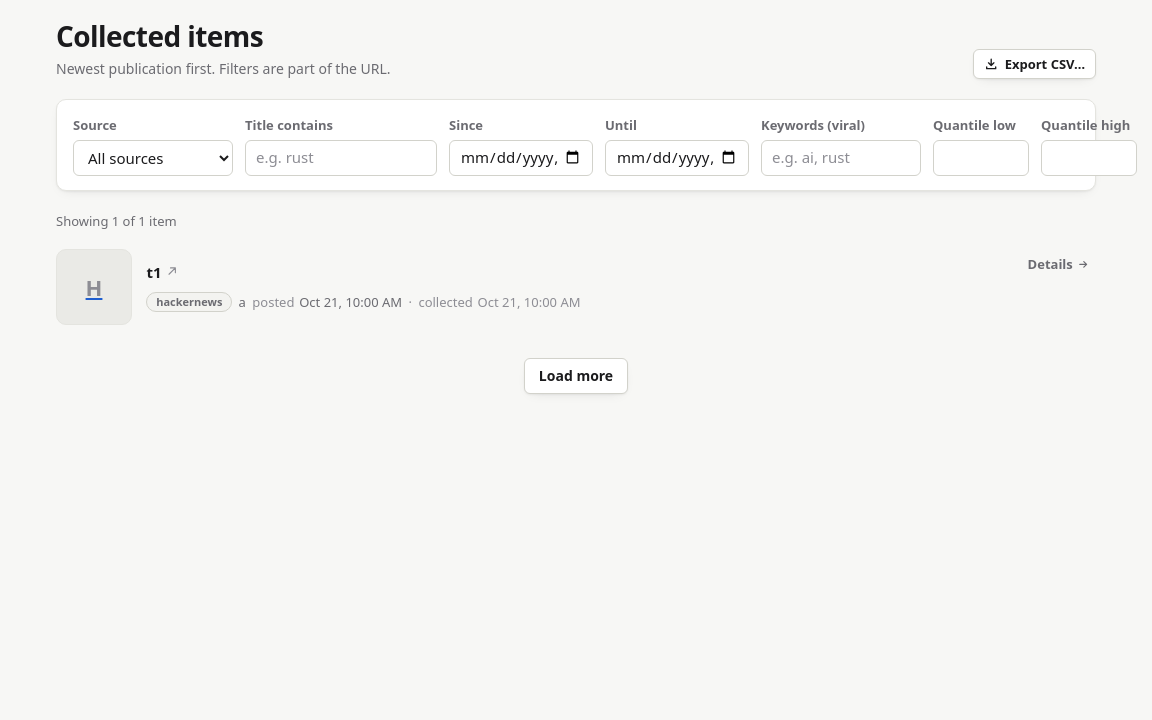
Test case: ItemsView export dialog › shows the matching row count before the download
This screenshot has width=1152, height=720.
Click the button "Export CSV…": click(1034, 64) [973,49,1096,79]
Wait 300 ms
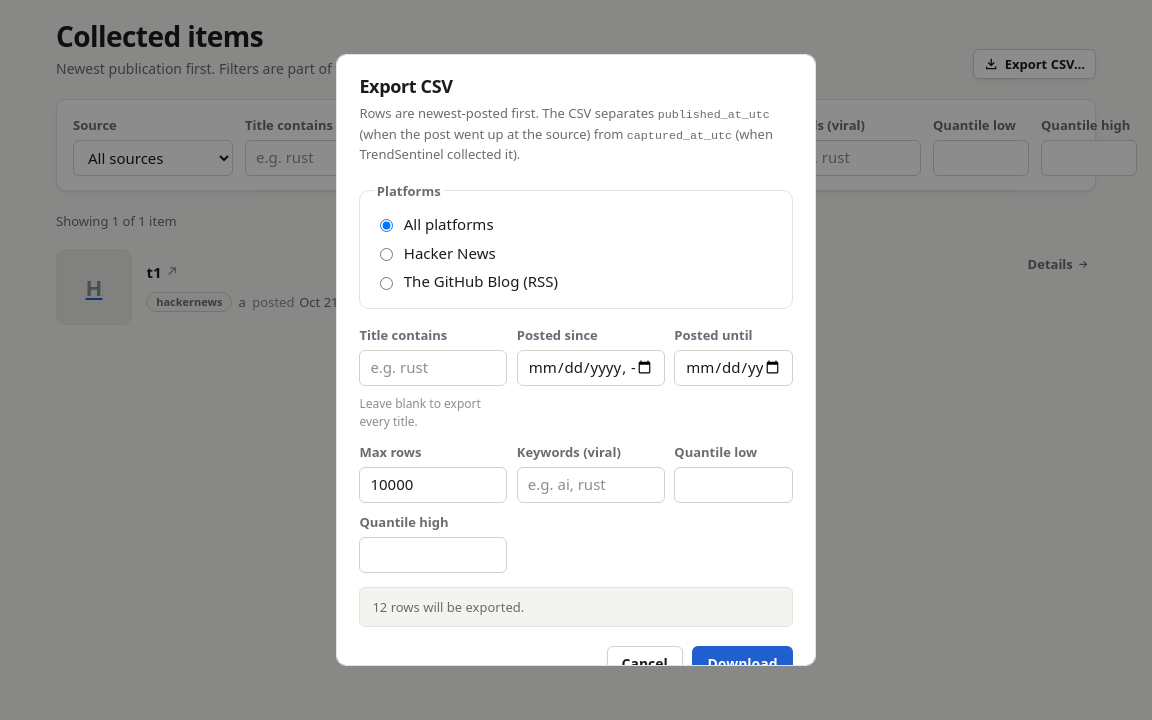
Result: the message with class "export-dialog__plan" shows "12 rows will be exported" at [372,598,524,616]
